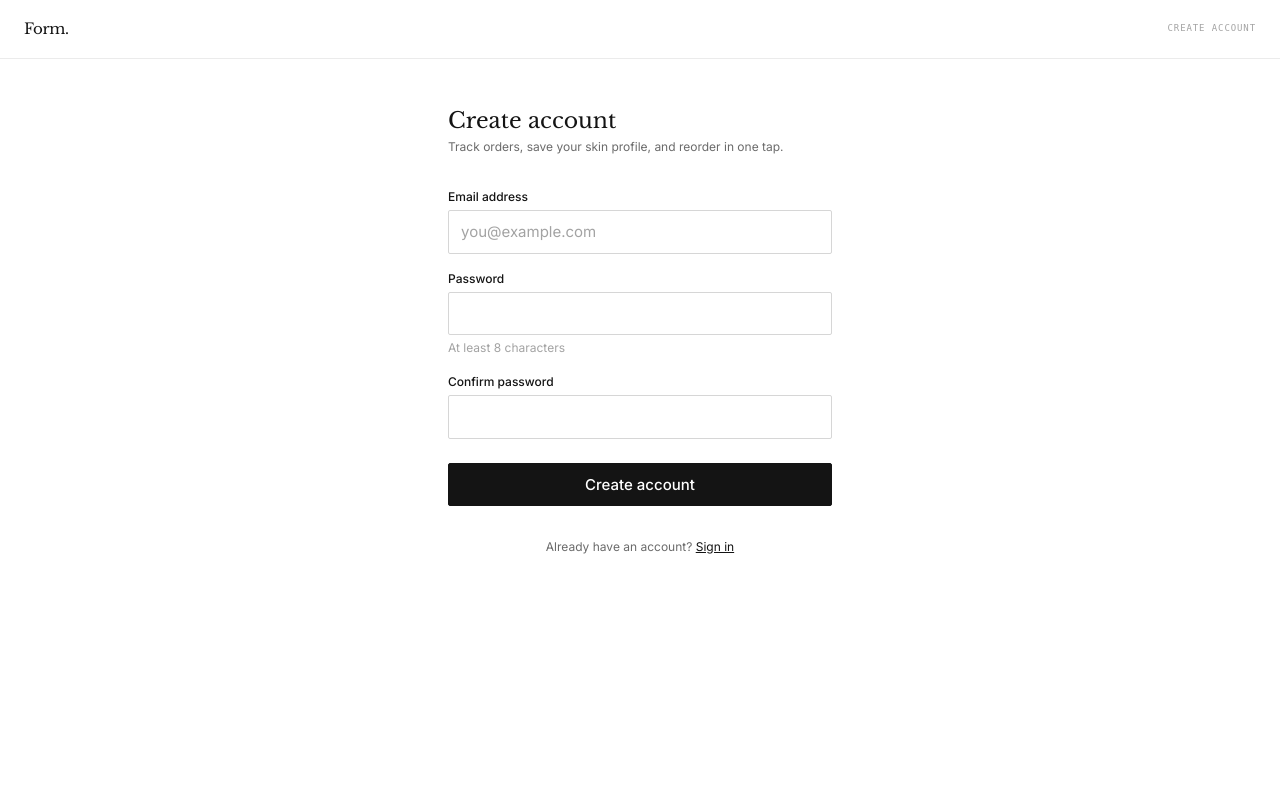
Test: SignupPage › shows verification notice when Supabase returns no session
In the field with test id "input-email": (640, 232) [448,210,832,254], type "buyer@example.com"
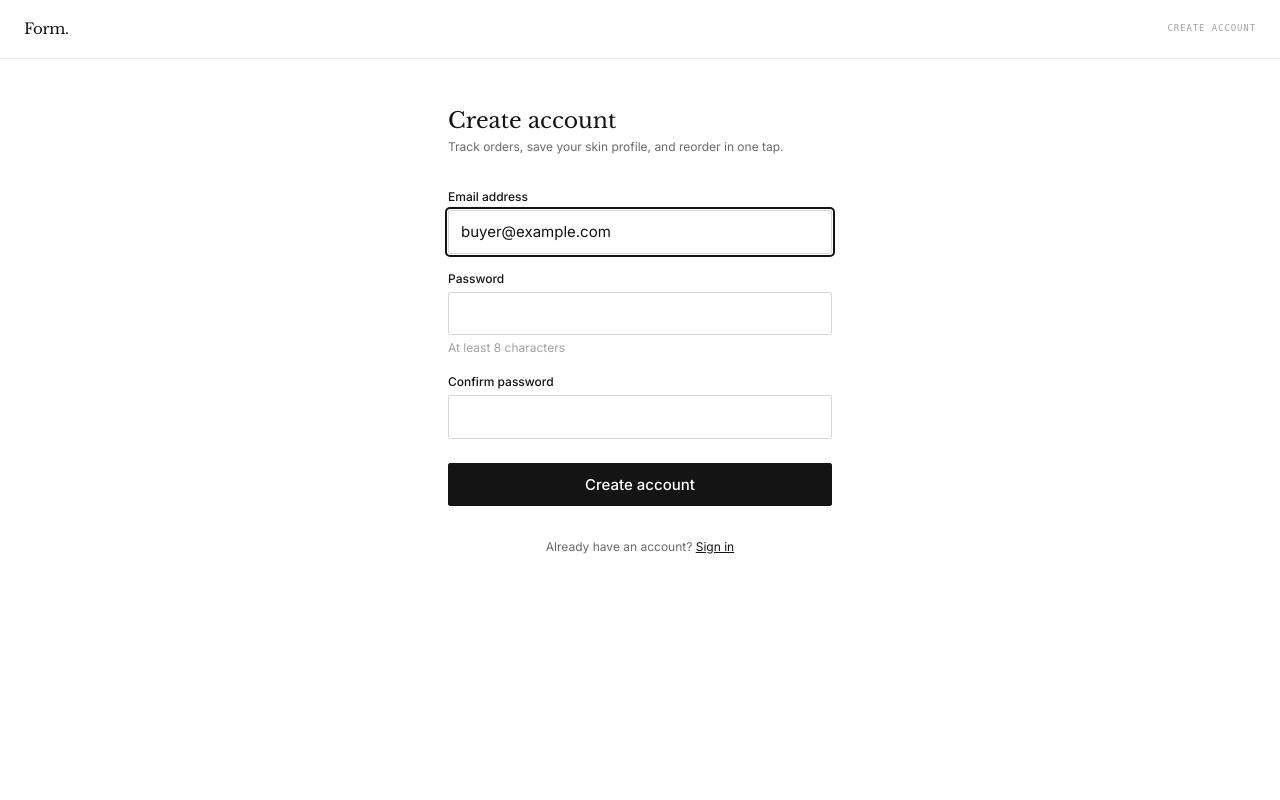
In the password field with test id "input-password": (640, 313) [448,292,832,335], type "correcthorse"
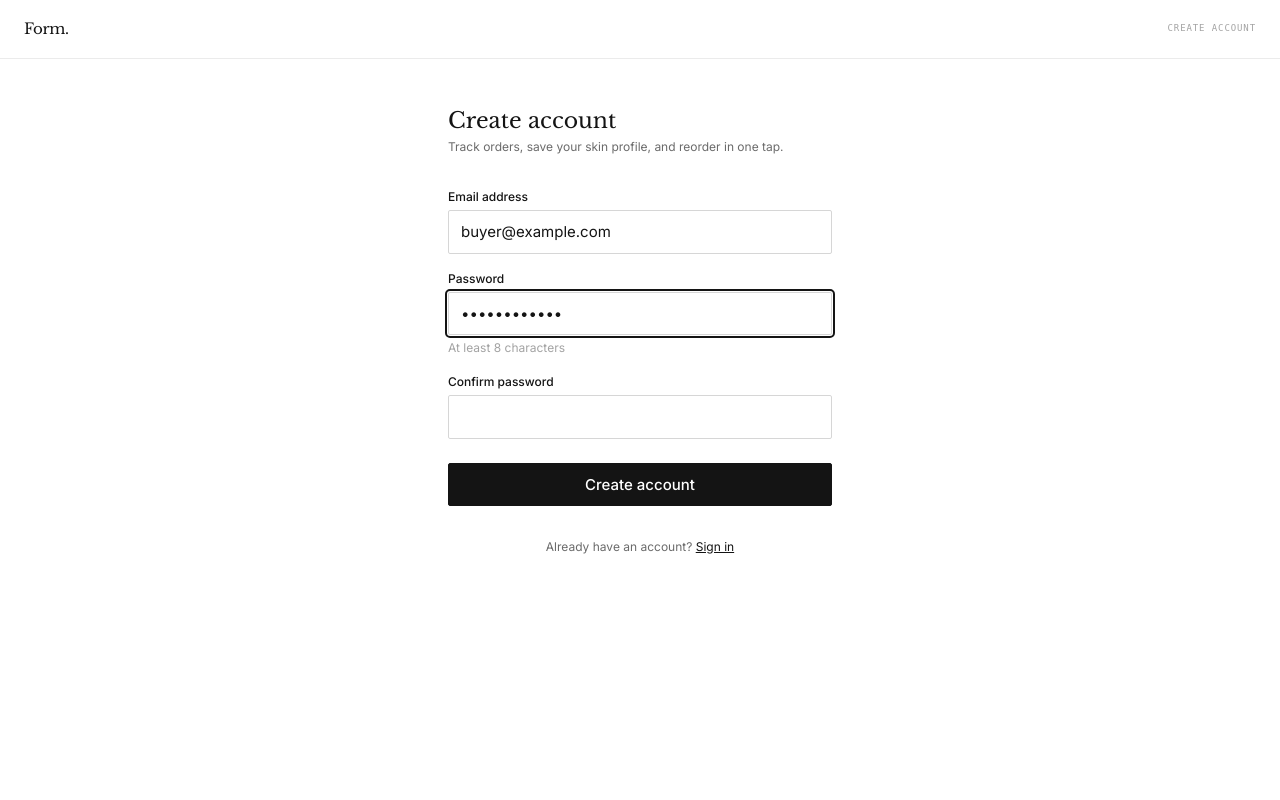
In the password field with test id "input-confirm-password": (640, 417) [448,395,832,438], type "correcthorse"
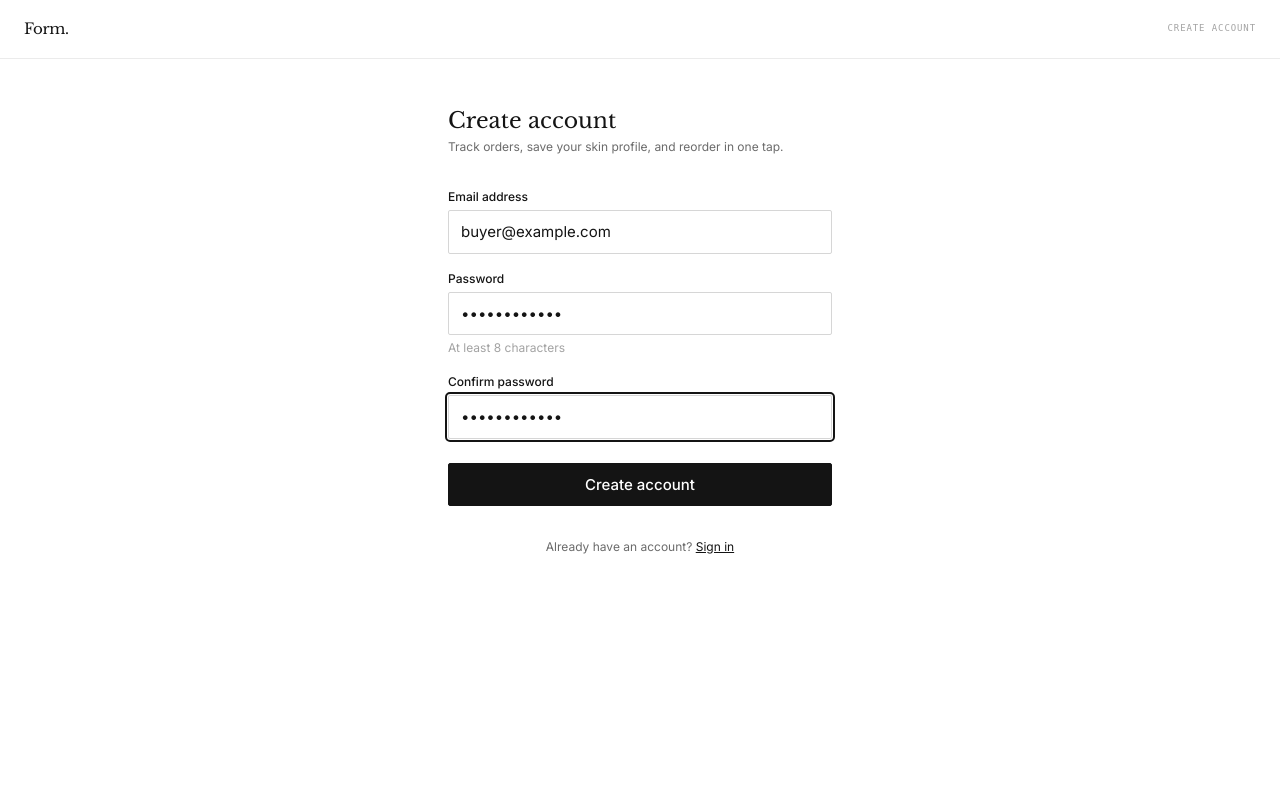
Click the button with test id "signup-submit": (640, 484) [448,462,832,506]
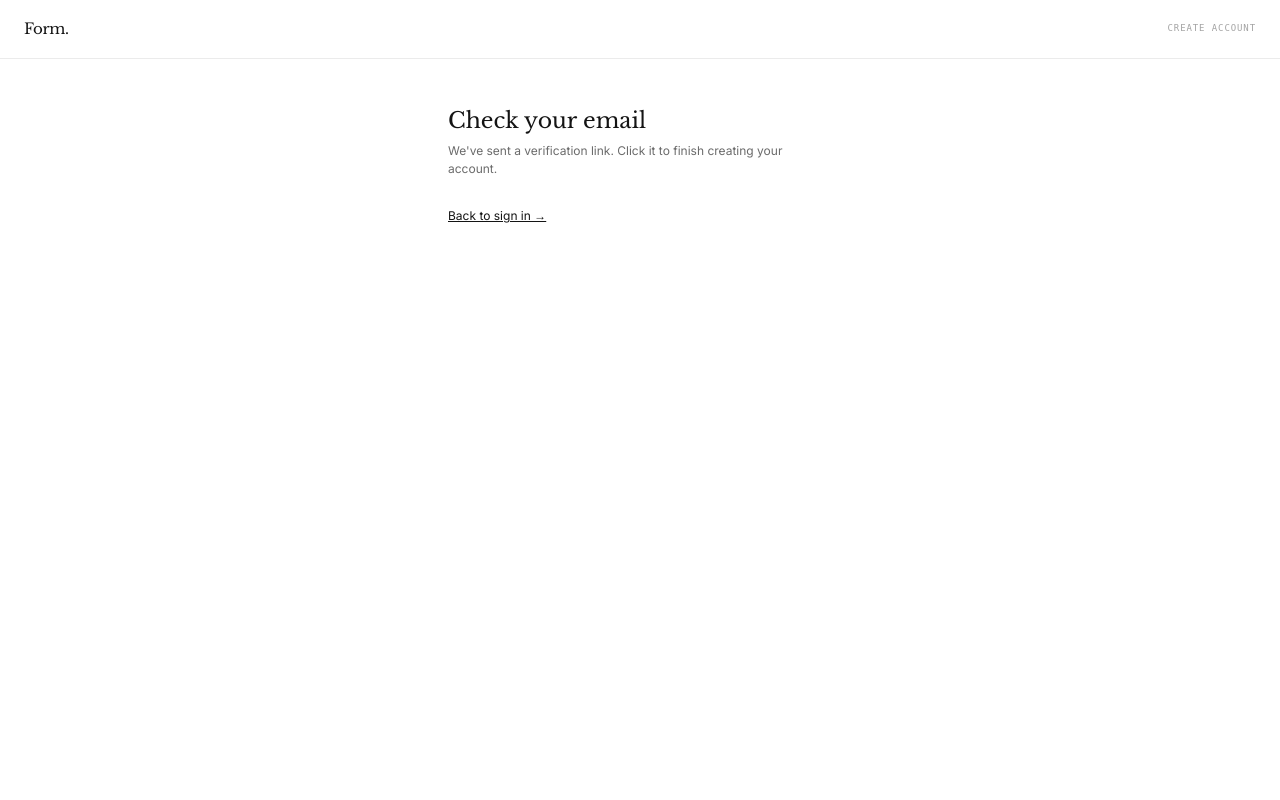
Now the element with test id "signup-verify" is shown, box [448,106,832,226]
